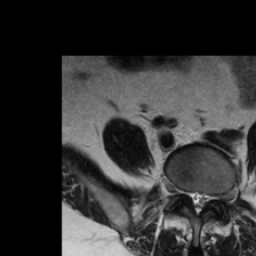CCS_normal: (193, 183, 201, 222)
LFS_severe_stenosis: (208, 185, 217, 207)
LLS_normal: (201, 183, 208, 214)
RFS_severe_stenosis: (180, 180, 187, 205)
RLS_severe_stenosis: (187, 182, 195, 212)
